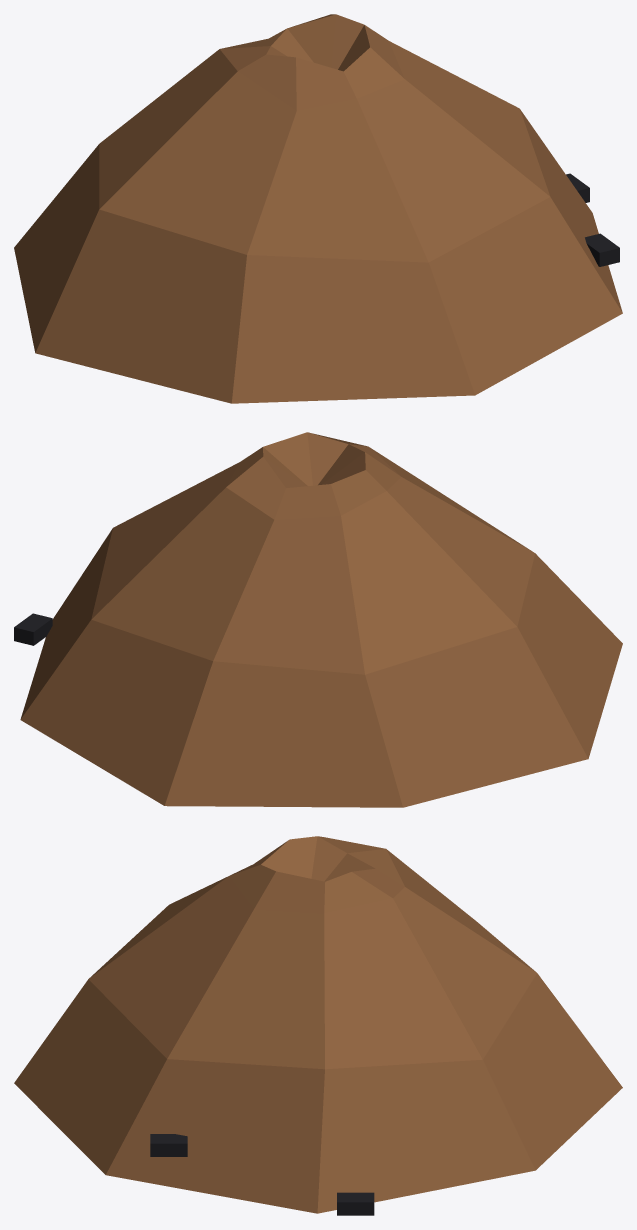
File: Anthill.fbx
3 views of the same model, one above another, from view 1: azimuth 30°, elevation 25°; view 2: azimuth 150°, elevation 25°; view 3: azimuth 270°, elevation 25° (orthographic). The views are drawn at different scales.
Visible parts, largest first — view 1: Anthill; view 2: Anthill; view 3: Anthill.
Boxes of the visible parts, <box> form: Anthill: <box>14,14,622,403</box>; Anthill: <box>14,432,622,807</box>; Anthill: <box>14,836,622,1215</box>.
Bounding box in the file's own units: 3.32 × 1.39 × 3.26.
1 material, 1 textured.
